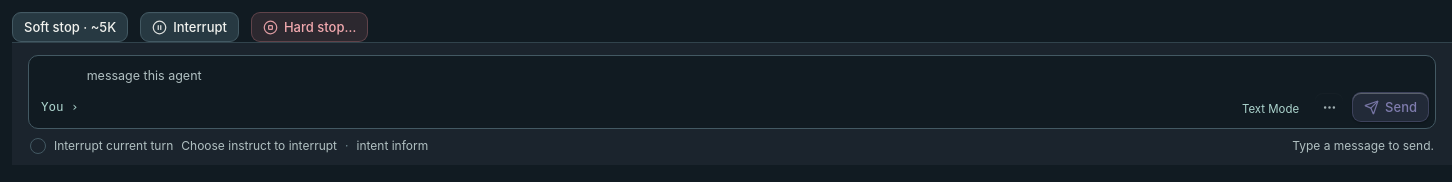
Agent controls › disables Interrupt while in flight and reuses its id
Click the button "Interrupt" at coordinates (190, 27), box [140,12,239,42]
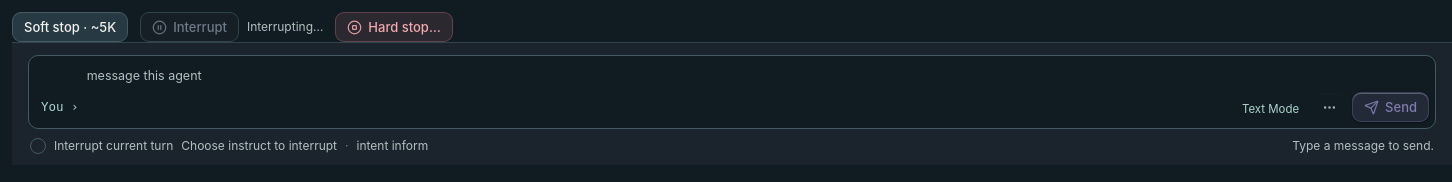
Expected: the text "Interrupting…" is shown, [247,18,323,36]
Expected: the button "Interrupt" is disabled, [140,12,239,42]
